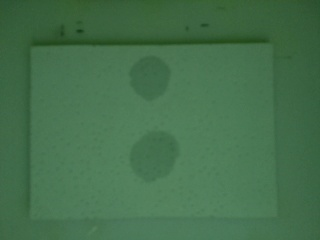Water_detected: (128, 136, 167, 177), (131, 66, 166, 90)
